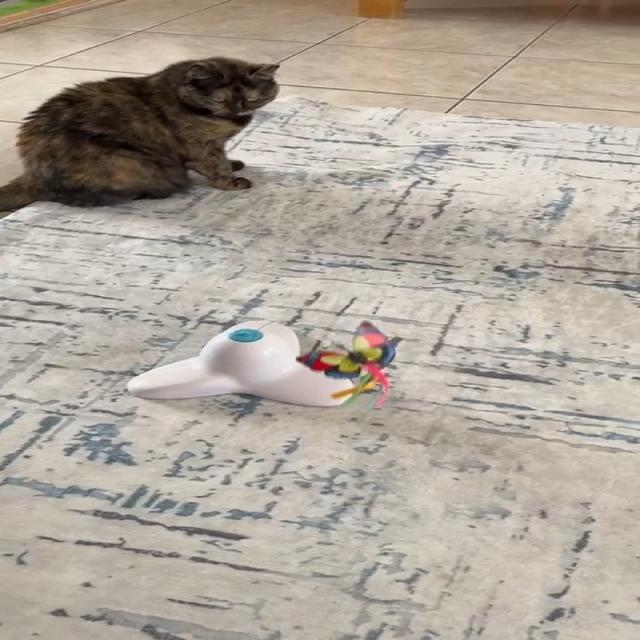authorized: (0, 55, 280, 212)
